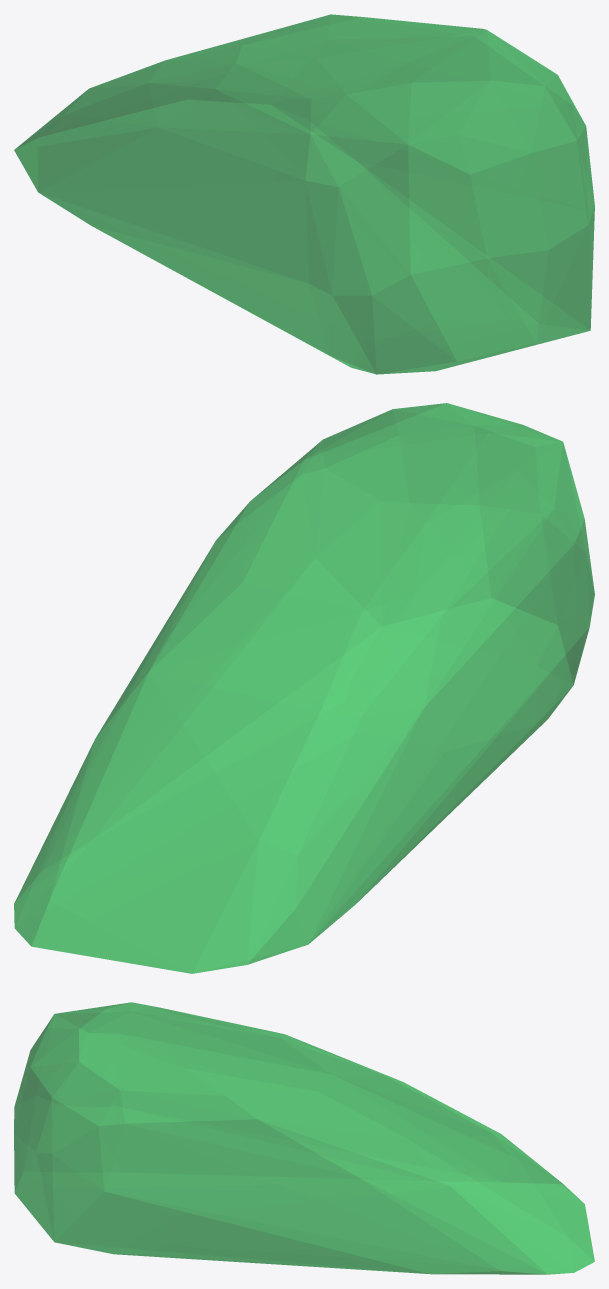
The picture shows the model from 3 angles, top to bottom: view 1: azimuth 30°, elevation 25°; view 2: azimuth 150°, elevation 25°; view 3: azimuth 270°, elevation 25°; orthographic projection. The views are drawn at different scales.
Visible parts, largest first — view 1: Shape_IndexedFaceSet.001_Shape_IndexedFaceSet.1752; view 2: Shape_IndexedFaceSet.001_Shape_IndexedFaceSet.1752; view 3: Shape_IndexedFaceSet.001_Shape_IndexedFaceSet.1752.
Part boxes in pixels (bbox=[...]): Shape_IndexedFaceSet.001_Shape_IndexedFaceSet.1752: bbox=[14, 14, 594, 374]; Shape_IndexedFaceSet.001_Shape_IndexedFaceSet.1752: bbox=[14, 403, 594, 973]; Shape_IndexedFaceSet.001_Shape_IndexedFaceSet.1752: bbox=[14, 1002, 594, 1274].
Size of the model in its own units: 0.1556 by 0.1626 by 0.4031.
